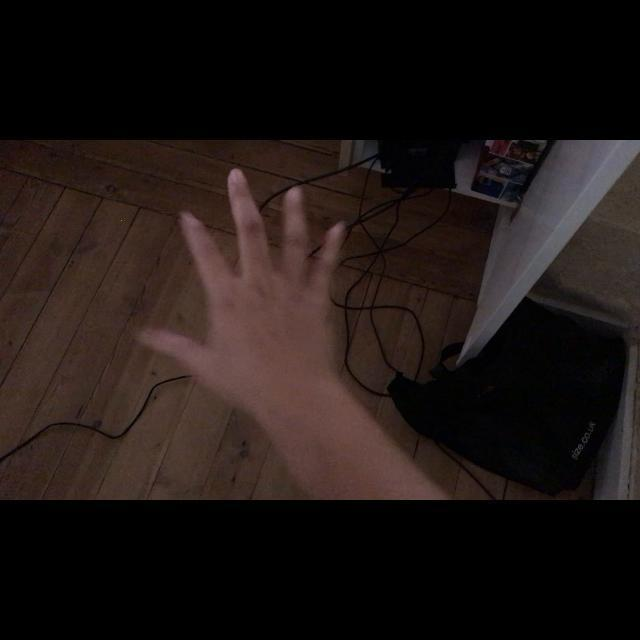bare_hand: (133, 166, 346, 390)
